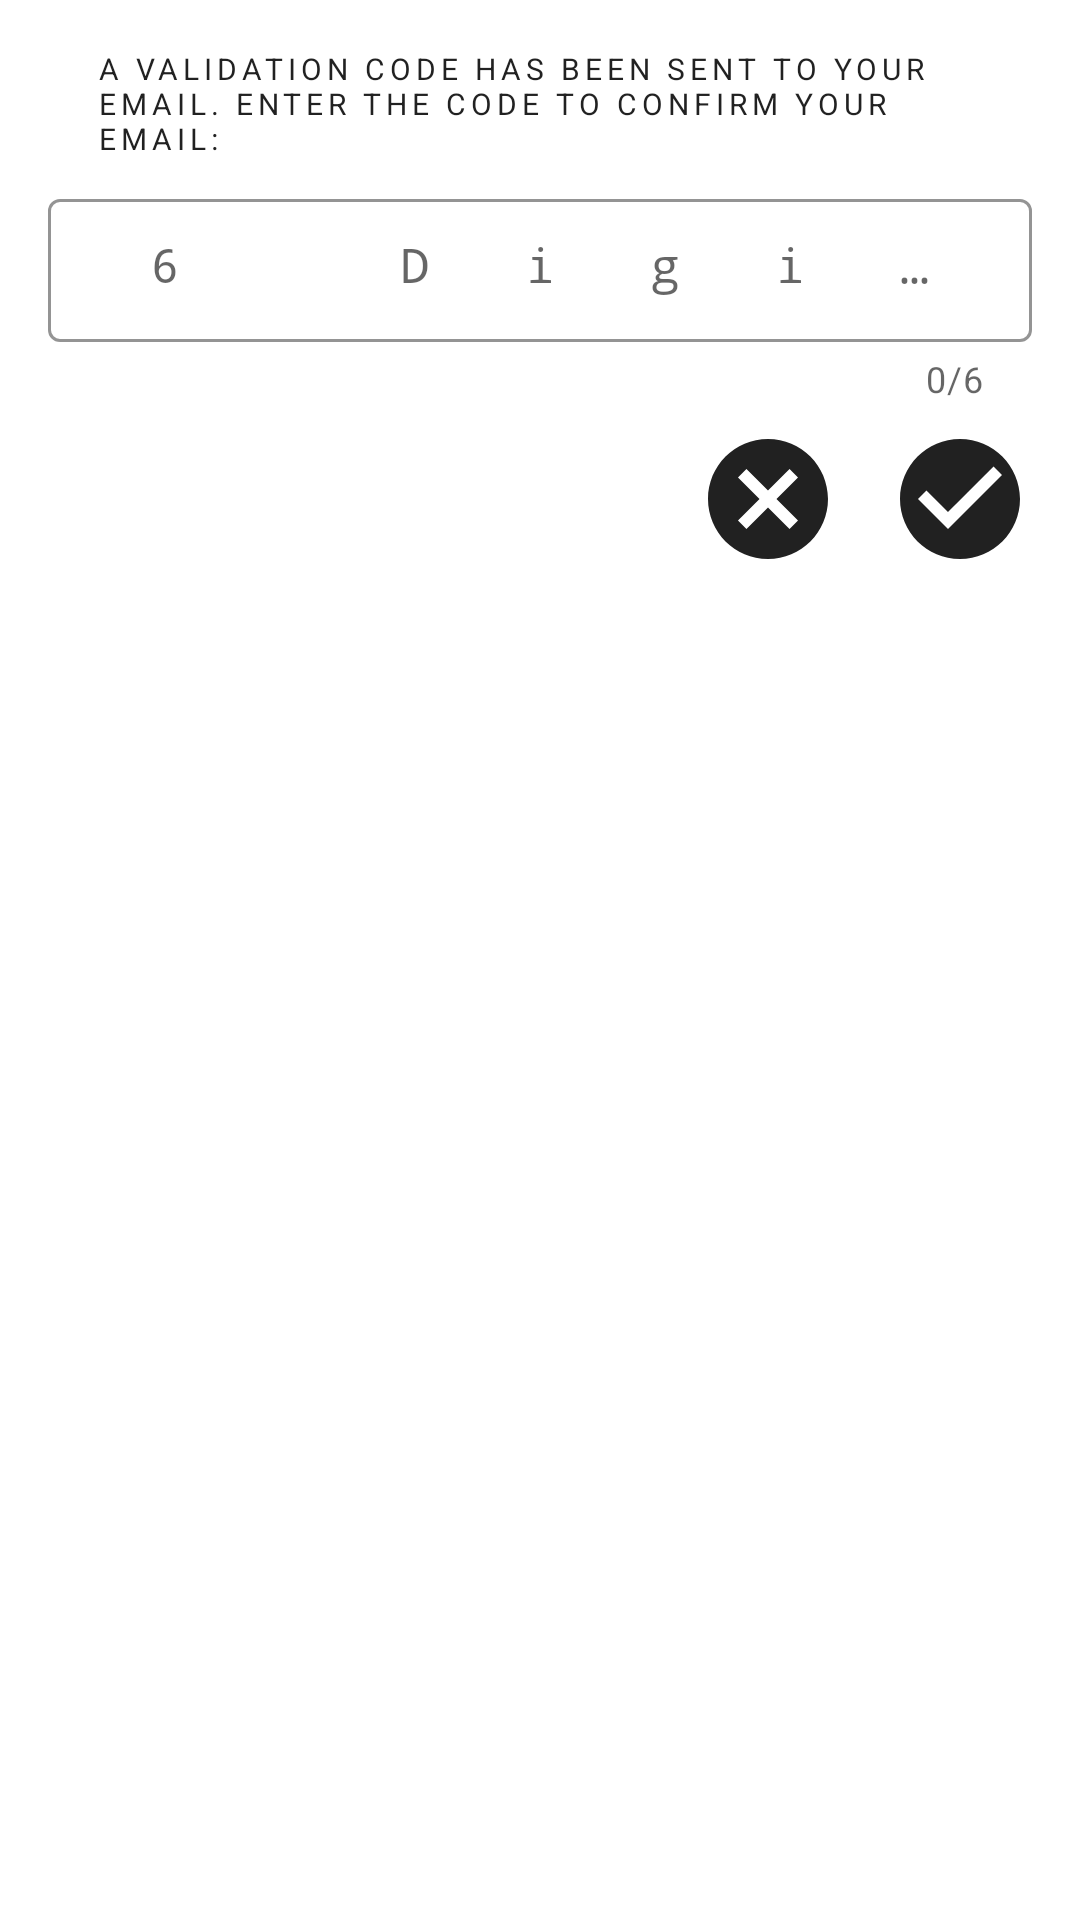

Locate icon controls on the screen. Image size 1080px×1920px, boxes as (x1, y1, x2, y2).
cancel: (708, 439, 828, 559)
check circle: (900, 439, 1020, 559)
